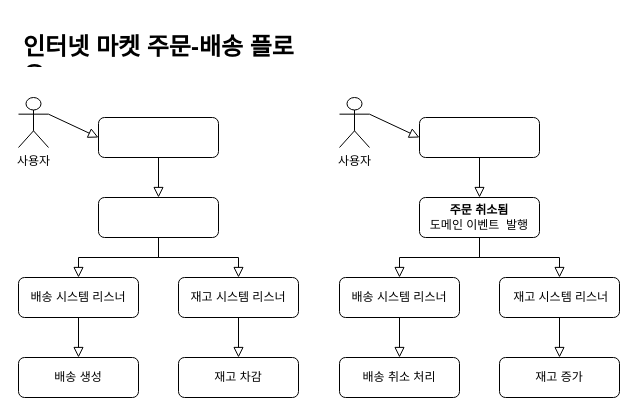
This 637x415 diagram has some shape labels left out. Here are the shapes that lost their labels. From the top down, the centre of each, then its label:
the point at 158,137: 상품 주문 접수 (상품 엔티티 생성)
the point at 479,137: 상품 주문 취소
the point at 158,217: 주문 생성됨 도메인 이벤트 발행
